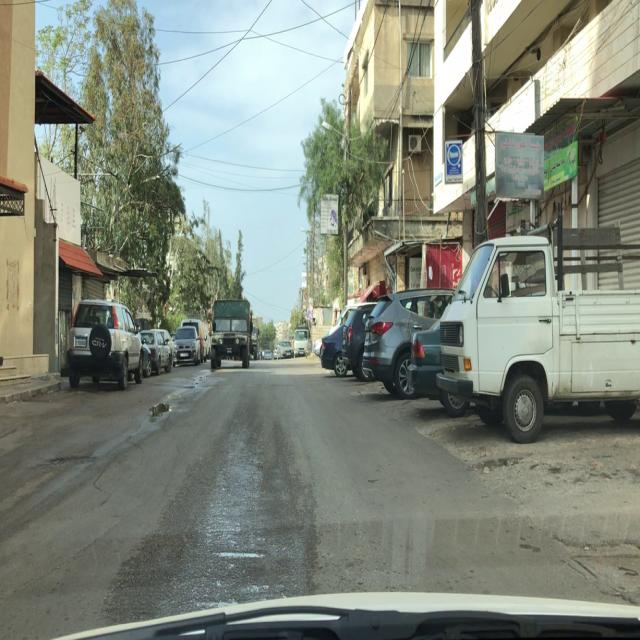Pothole: (472, 451, 524, 478)
